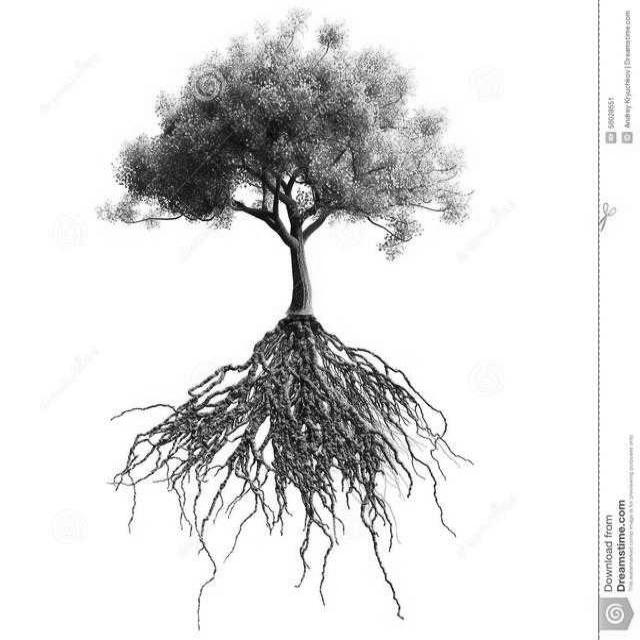Tree: (116, 11, 466, 314)
